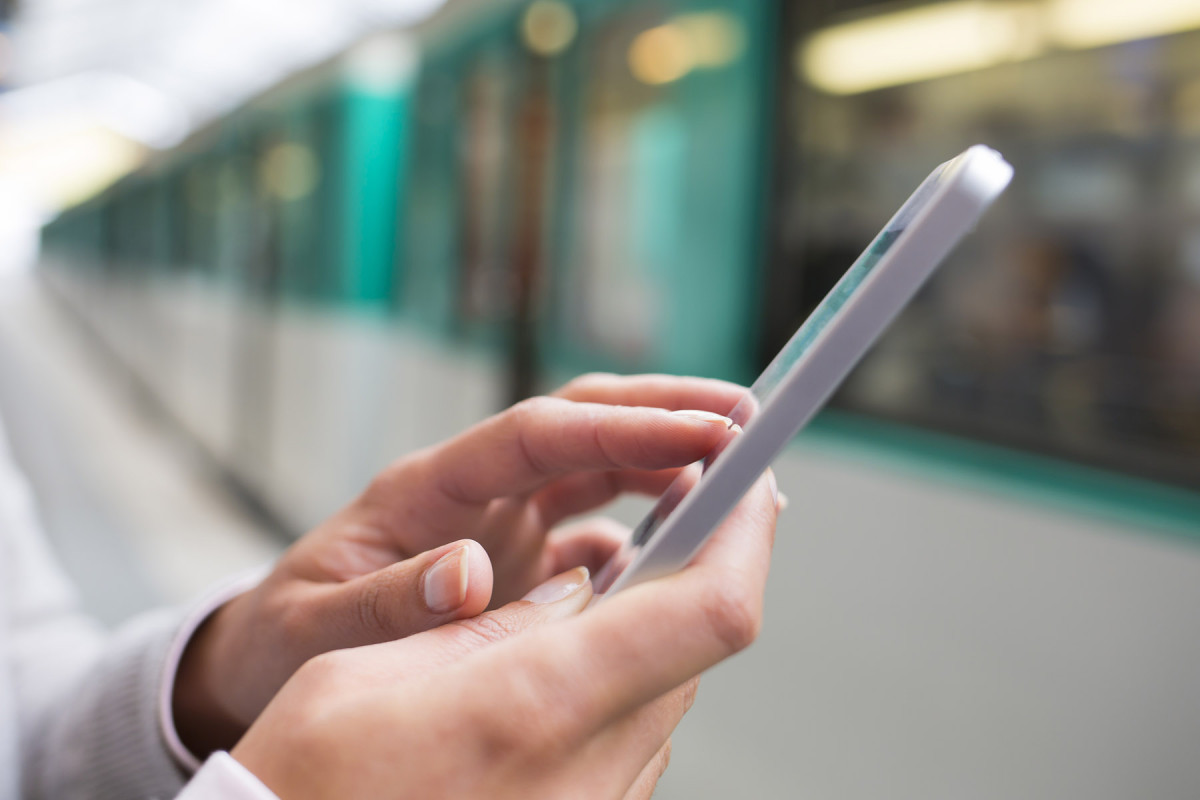smartphone: (583, 139, 1018, 618)
